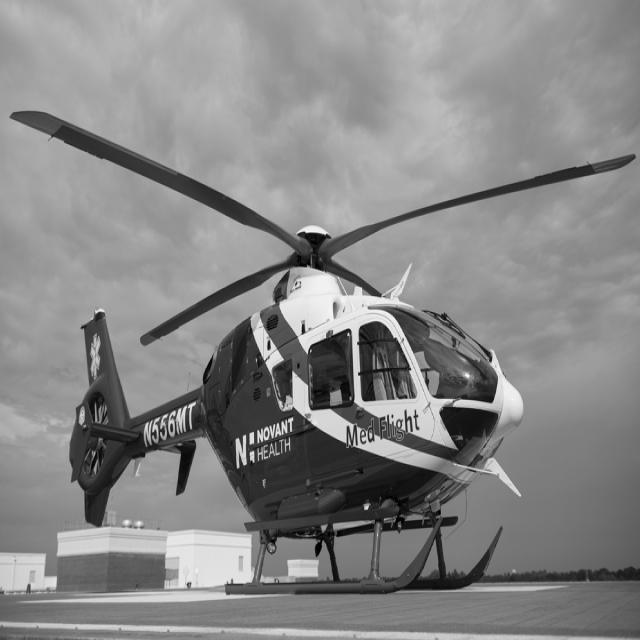helicopter: (11, 112, 638, 589)
